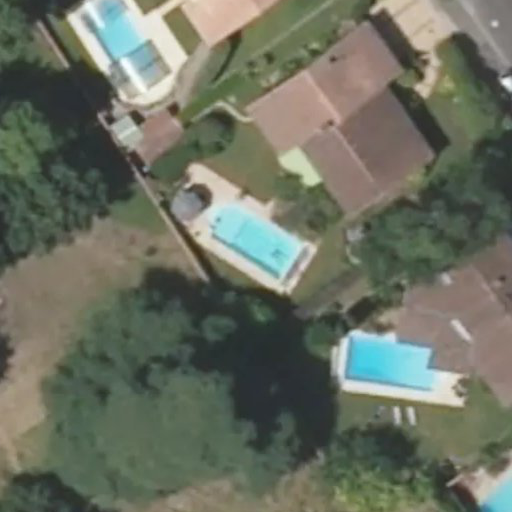pool: (199, 228, 302, 247)
